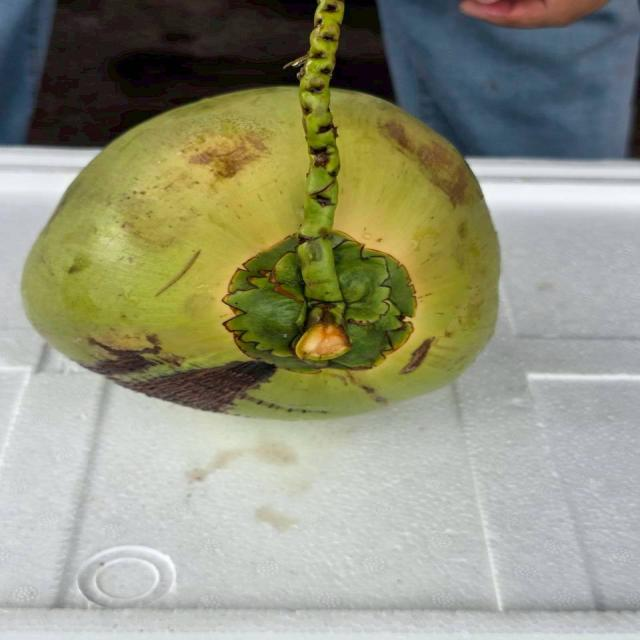coco_1.5: (178, 200, 481, 408)
